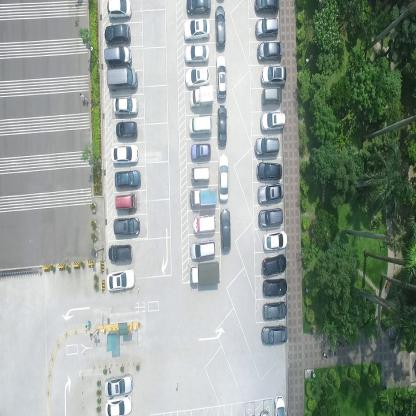car: (190, 260, 221, 287), (107, 66, 137, 91), (106, 266, 135, 291), (104, 373, 133, 397), (261, 322, 288, 346), (189, 184, 217, 207), (104, 393, 133, 415), (190, 238, 216, 262), (260, 108, 286, 132), (183, 17, 210, 40), (111, 141, 139, 163), (189, 83, 214, 107), (262, 252, 287, 276), (115, 165, 142, 187), (104, 23, 131, 45), (256, 40, 283, 62), (257, 182, 284, 204), (104, 45, 132, 66), (113, 93, 139, 115), (260, 64, 286, 86), (262, 229, 288, 251), (258, 206, 283, 228), (254, 18, 278, 40), (218, 152, 229, 200), (184, 42, 209, 63), (184, 65, 209, 86), (107, 0, 132, 21), (254, 136, 280, 156), (214, 3, 225, 49), (188, 113, 212, 134), (192, 213, 216, 234), (113, 217, 141, 235), (263, 300, 287, 321), (263, 277, 288, 297), (215, 53, 226, 98), (220, 207, 231, 252), (256, 162, 282, 181), (116, 118, 139, 139), (108, 242, 132, 262), (191, 140, 211, 160), (261, 87, 282, 106), (115, 193, 137, 211), (217, 102, 226, 144), (186, 0, 211, 15), (254, 0, 278, 15), (191, 164, 210, 182), (273, 394, 286, 416)
